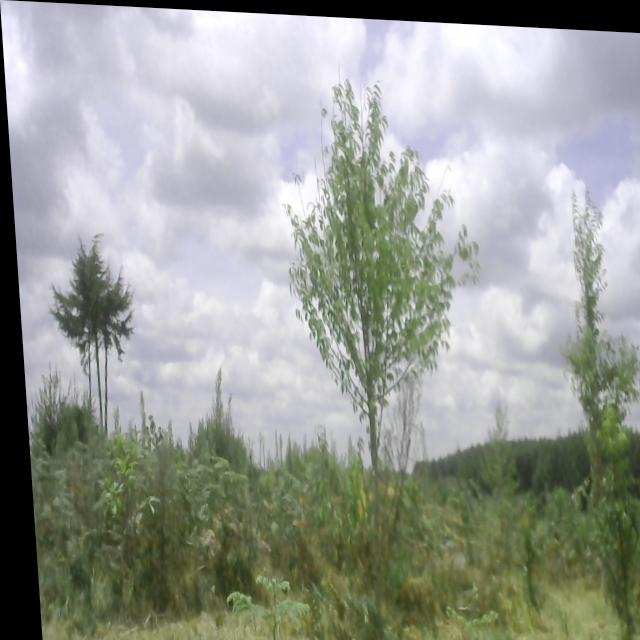cedrus: (87, 266, 149, 435), (45, 233, 95, 439), (76, 237, 103, 446)
other: (269, 51, 492, 592)
